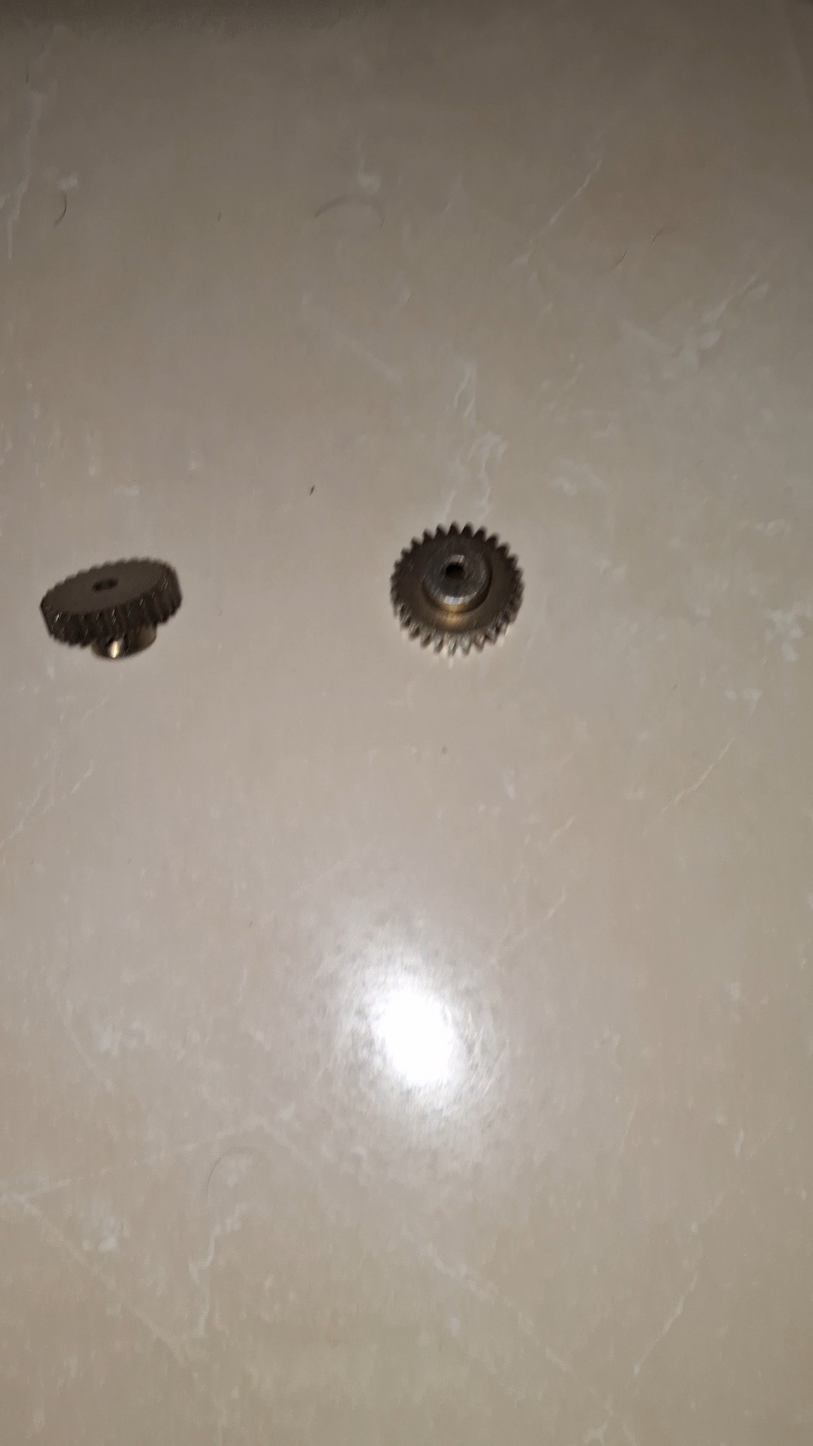spur gear: (388, 528, 519, 654), (40, 564, 179, 661)
